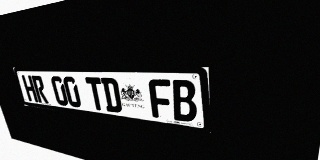0: (62, 76, 82, 108), (50, 76, 69, 106)
B: (171, 80, 197, 123)
D: (100, 77, 123, 113)
F: (148, 79, 173, 120)
H: (21, 75, 38, 102)
R: (31, 75, 49, 104)
T: (85, 77, 106, 111)
